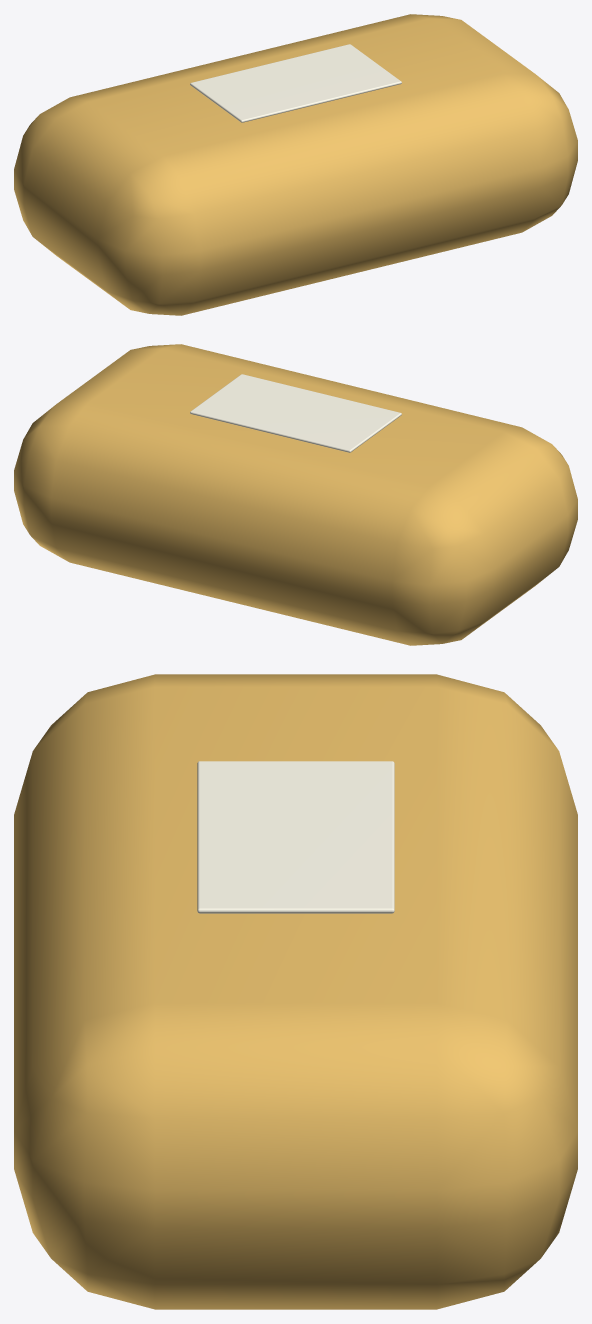
Rendered from bathroomSoapYellow.glb.
3 views of the same model, one above another, from view 1: azimuth 30°, elevation 25°; view 2: azimuth 150°, elevation 25°; view 3: azimuth 270°, elevation 25° (orthographic). The views are drawn at different scales.
Visible parts, largest first — view 1: Soap, Soap stamp; view 2: Soap, Soap stamp; view 3: Soap, Soap stamp.
Part boxes in pixels (box(x1,y1,x2,y2)): Soap: box(14, 14, 577, 315); Soap stamp: box(190, 44, 401, 122); Soap: box(14, 344, 577, 645); Soap stamp: box(190, 374, 401, 452); Soap: box(14, 674, 577, 1309); Soap stamp: box(197, 761, 394, 913).
Bounding box in the file's own units: 0.73 × 0.238 × 0.4.
